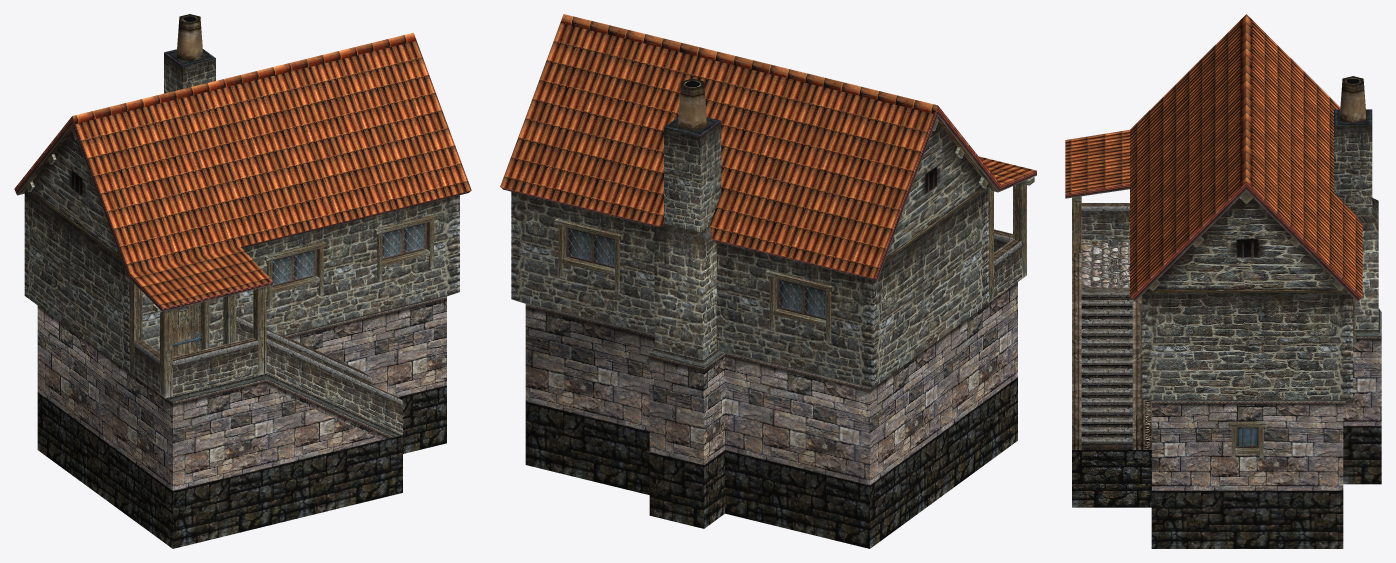
File: S_bld22a.glb
3 renders of one model, left to right at view 1: azimuth 30°, elevation 25°; view 2: azimuth 150°, elevation 25°; view 3: azimuth 270°, elevation 25°, orthographic. The views are drawn at different scales.
Parts seen in each view (by area): view 1: S_bld22a; view 2: S_bld22a; view 3: S_bld22a.
Boxes of the visible parts, x1,y1,x2,y2 form: S_bld22a: [14, 14, 471, 548]; S_bld22a: [500, 14, 1036, 548]; S_bld22a: [1065, 14, 1381, 548].
Size of the model in its own units: 12.45 by 13.5 by 9.91.
Materials: 18 (18 with a texture image).
